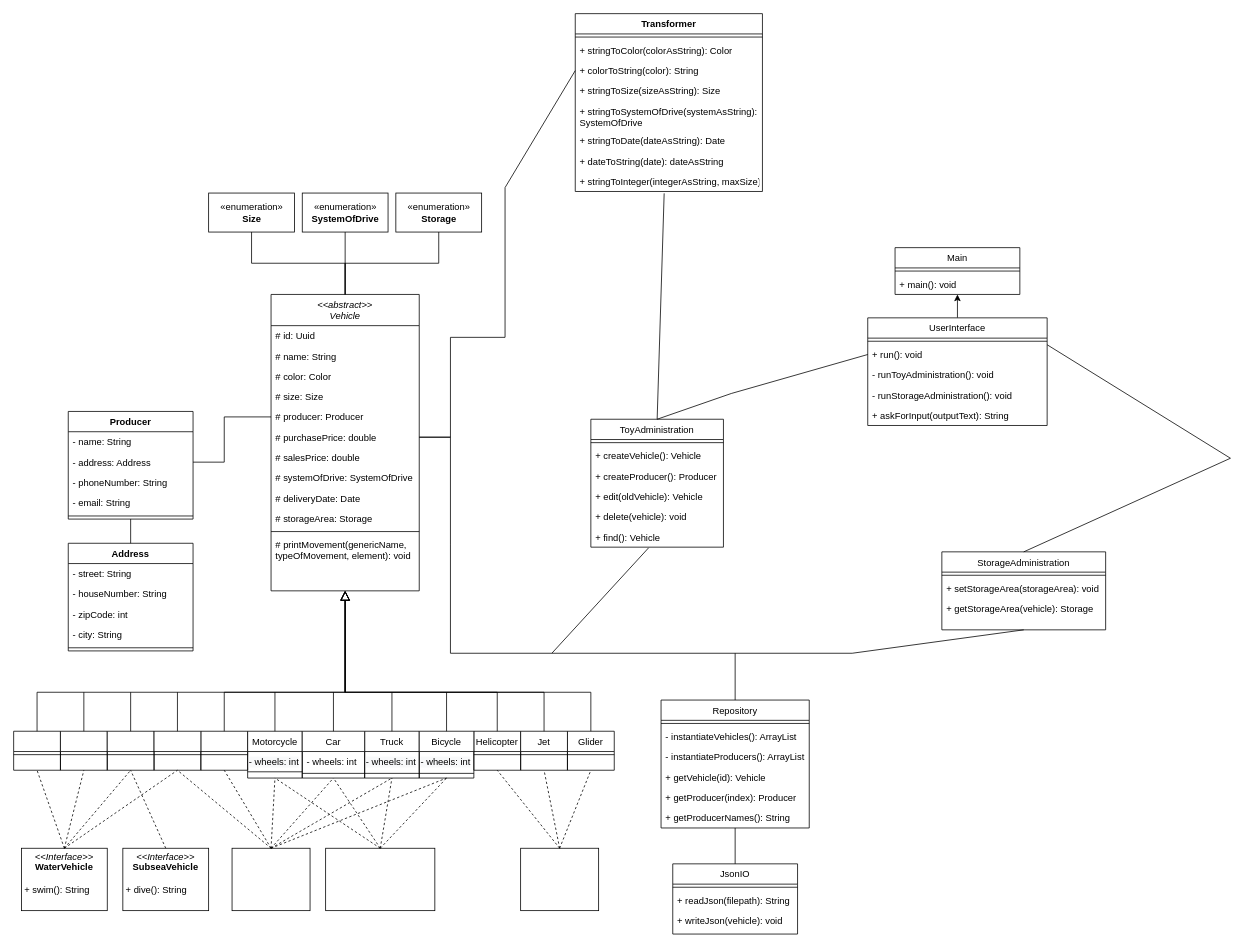
Some shapes in this 1245 by 948 pixel diagram are drawn without their labels. Each missing label, with the centre of its shape:
"<<Interface>> AirVehicle + fly(): String" goes at point (559, 879).
"<<Interface>> LandVehicle + drive(): String" goes at point (270, 879).
"<<Interface>> WheeledVehicle + numberOfWheels: int" goes at point (380, 879).
"Bulldozer" goes at point (224, 750).
"Hovercraft" goes at point (177, 750).
"Motorboat" goes at point (83, 750).
"Sailboat" goes at point (36, 750).
"Submarine" goes at point (130, 750).
